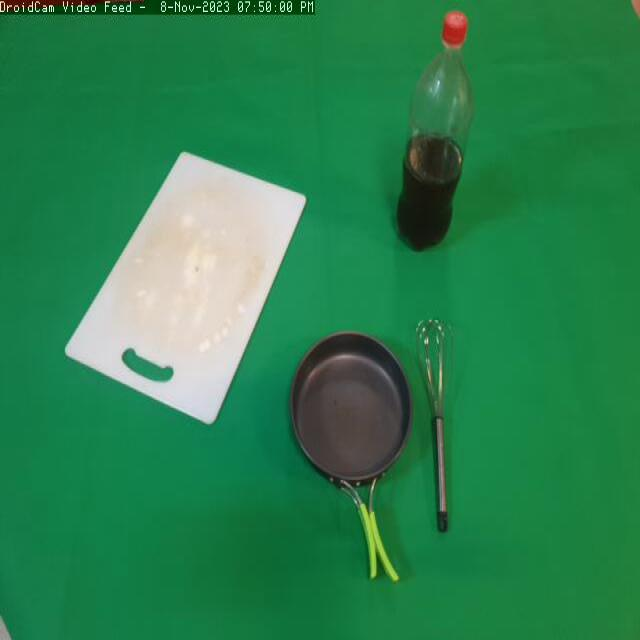cutting board: (51, 135, 305, 433)
fullbottle: (390, 7, 479, 260)
pan: (284, 324, 420, 587)
whisk: (409, 308, 477, 546)
